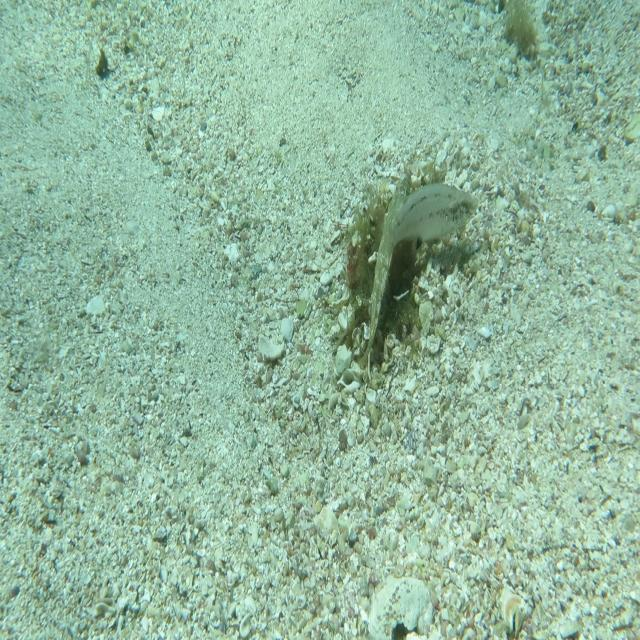ROLL: (354, 174, 413, 371)
female: (376, 173, 479, 273)
nest: (340, 156, 477, 388)
